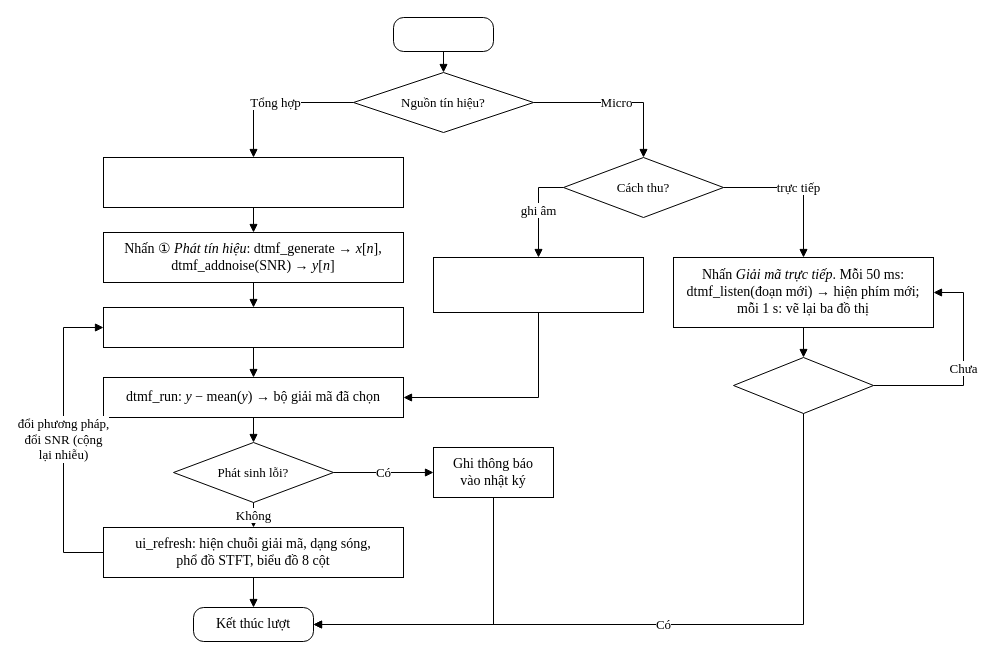
The diagram is 994 pixels wide and 659 high, and some of its shapes have lost their labels. The shapes that lost their labels are listed below. From the top down, each one's centre as x and y in pixels, then its label:
pixel 443 34: Bắt đầu
pixel 253 182: Nhập chuỗi phím hoặc bấm bàn phím (mỗi phím phát ngay âm tương ứng)
pixel 538 284: Nhấn Ghi âm rồi giải mã : thu y [ n ] tới khi nhấn Dừng (tối đa 20 s)
pixel 253 327: Nhấn ② Giải mã
pixel 803 385: Nhấn Dừng?
